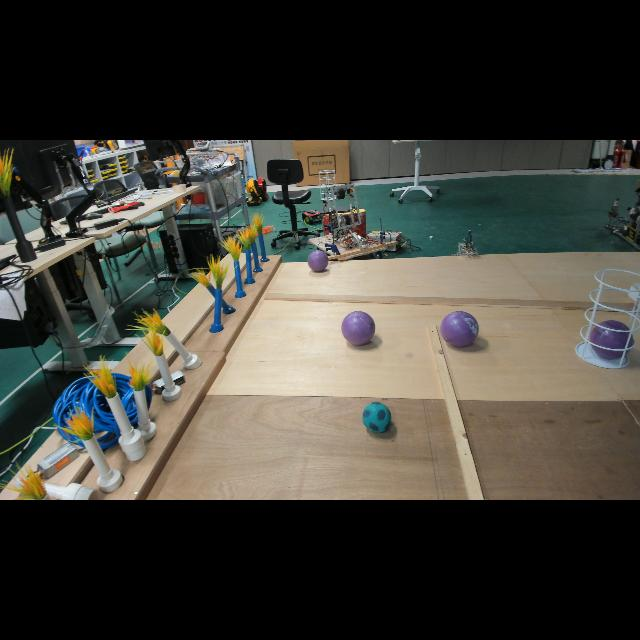P: (590, 320, 634, 360), (440, 310, 480, 348), (340, 310, 376, 346), (308, 250, 328, 272)
S: (574, 268, 640, 369)
